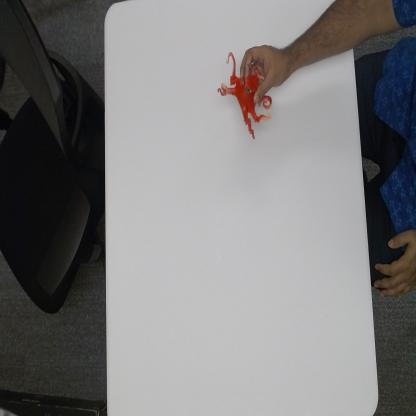Arm: (294, 0, 416, 71)
Hand: (239, 42, 293, 106)
Octopus: (216, 50, 272, 144)
